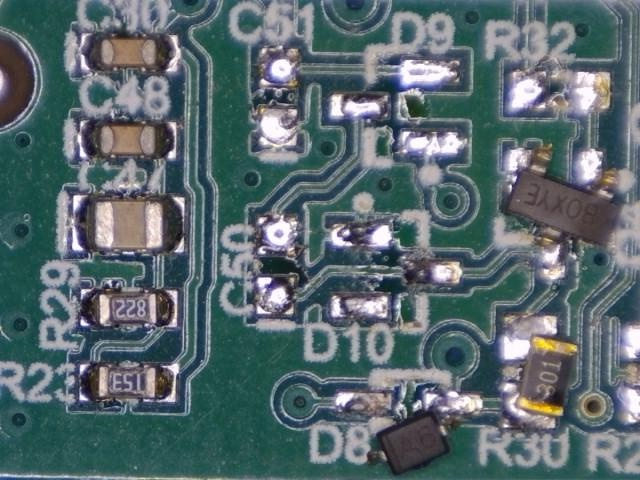pcb_defect: (504, 145, 624, 281), (367, 392, 482, 475), (500, 313, 581, 429)
